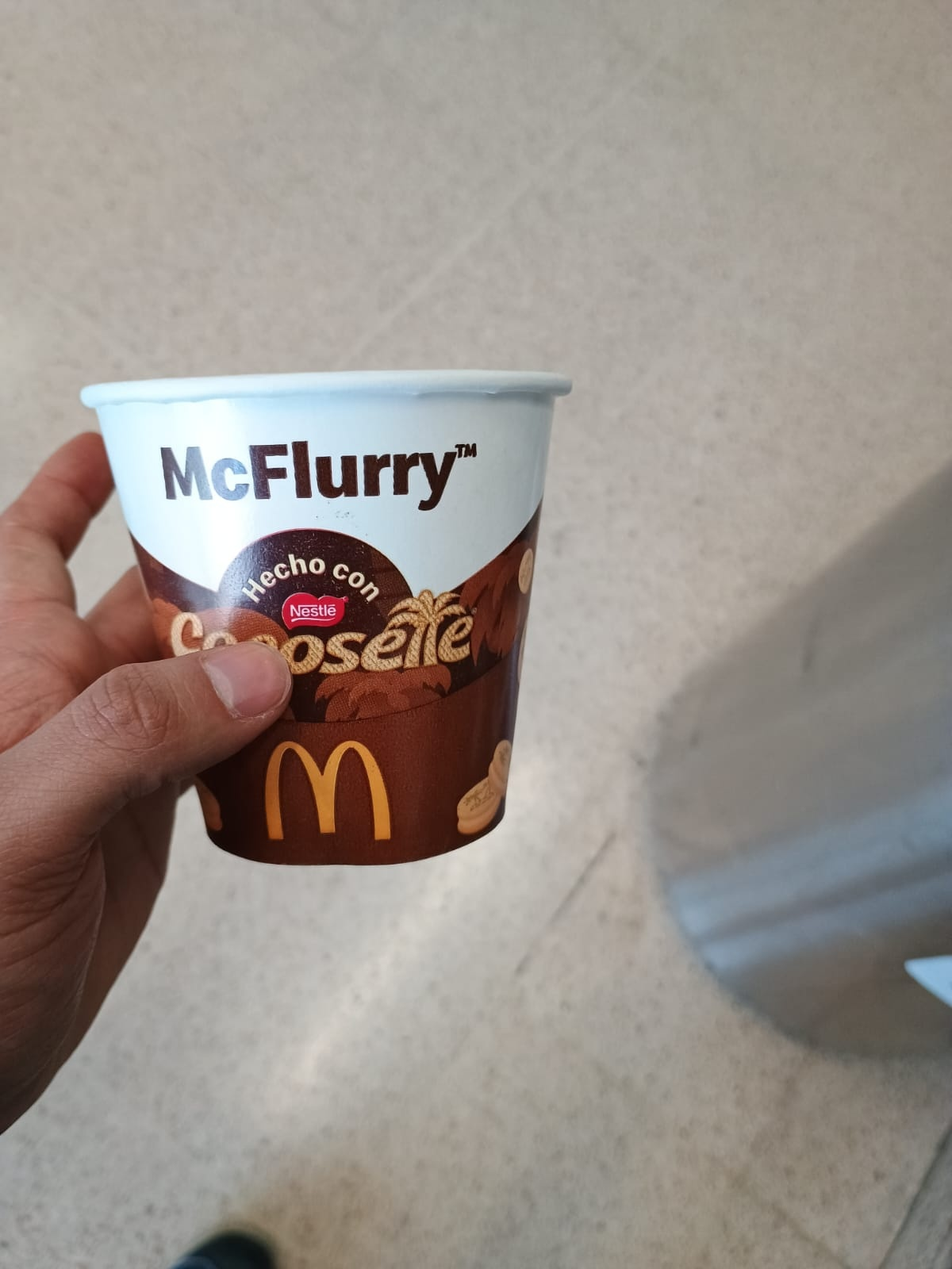Carton: (78, 372, 572, 867)
